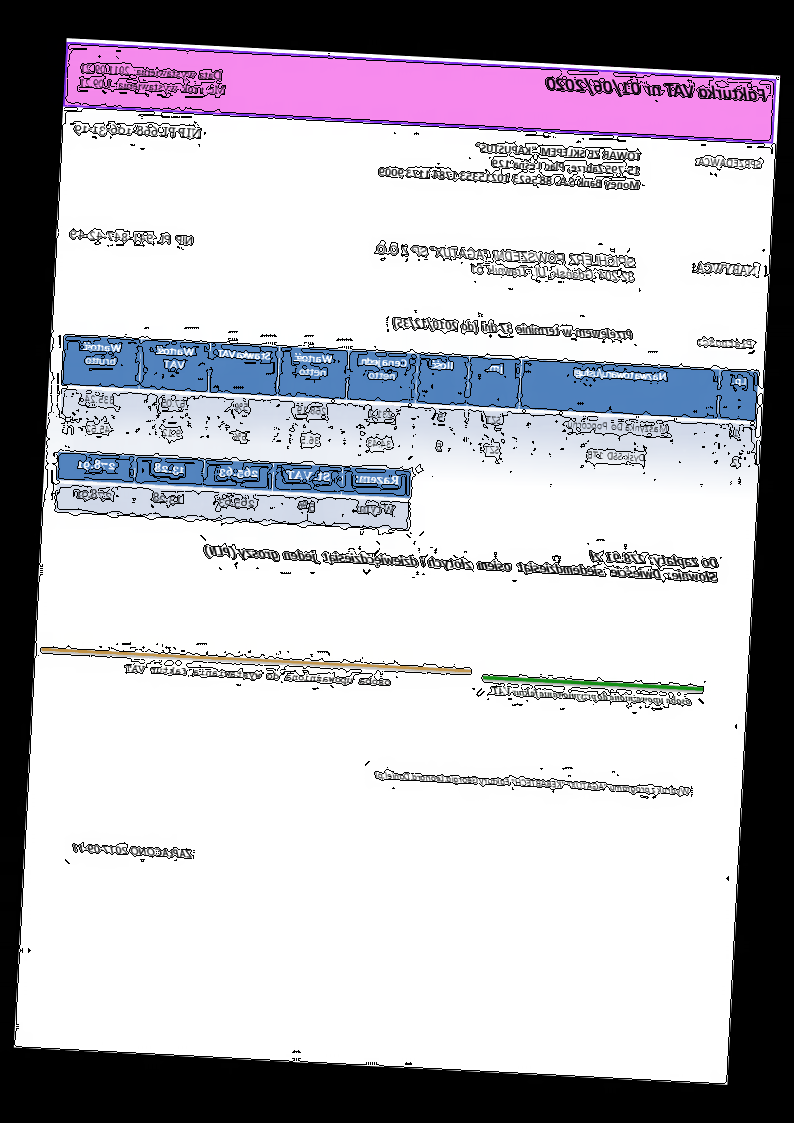Table: (57, 333, 760, 486), (53, 449, 413, 531)
TextBox: (201, 527, 721, 588), (378, 137, 645, 193), (370, 240, 638, 285), (373, 768, 691, 799), (123, 661, 393, 689), (392, 315, 635, 345), (544, 74, 769, 106), (78, 59, 231, 99), (490, 684, 693, 709), (73, 119, 205, 144), (68, 227, 195, 249), (71, 840, 195, 860), (691, 259, 760, 278), (694, 154, 764, 172), (697, 333, 755, 351)
